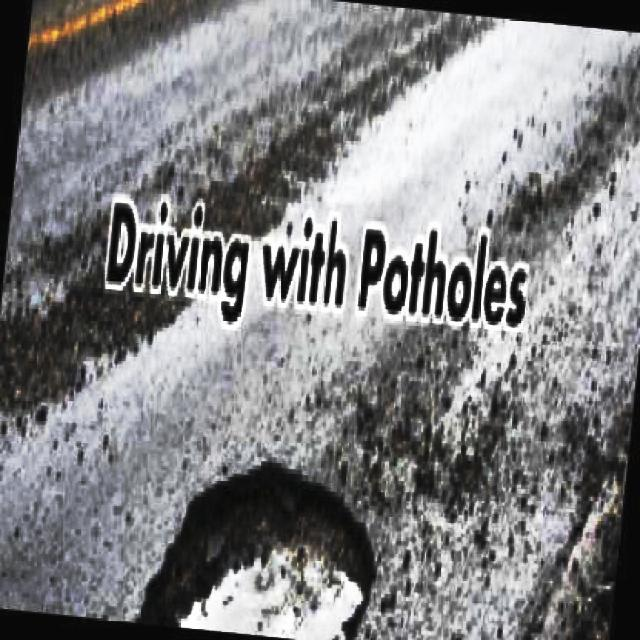pothole: (137, 452, 386, 640)
